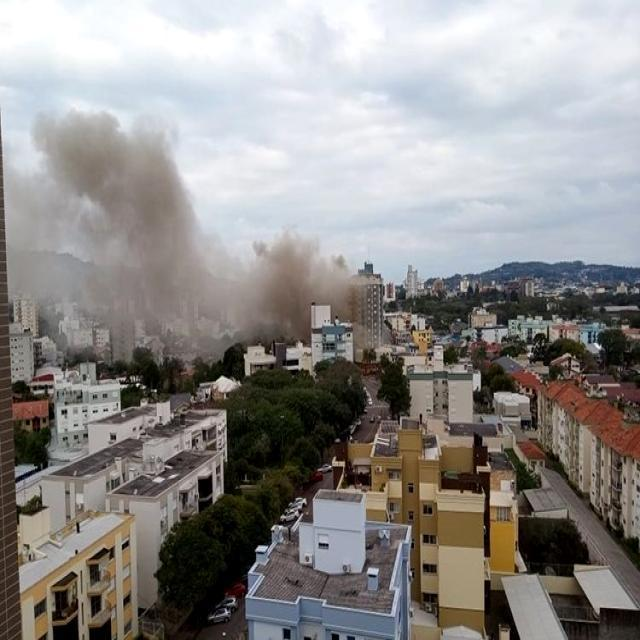Smoke: (0, 82, 206, 351), (212, 216, 388, 346)
